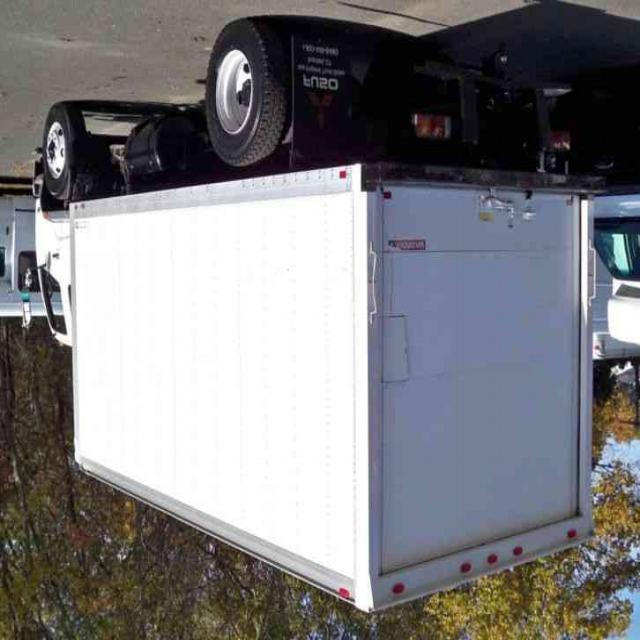truck: (19, 29, 594, 617)
